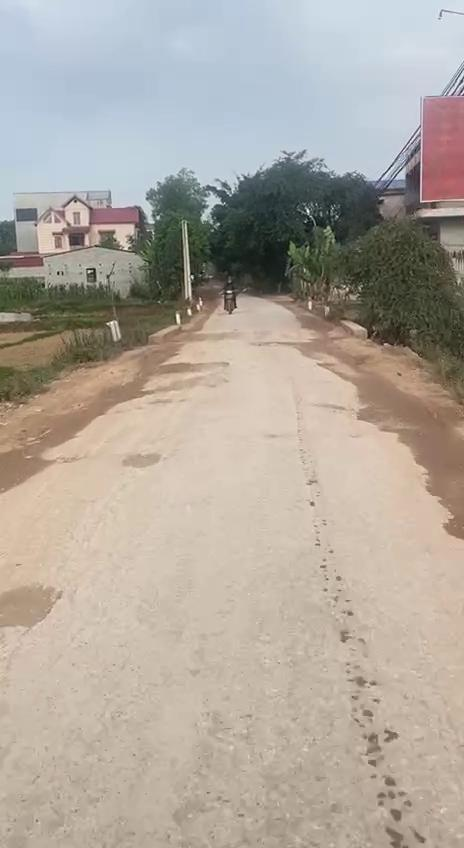pothole: (0, 569, 63, 635), (124, 450, 167, 470)
